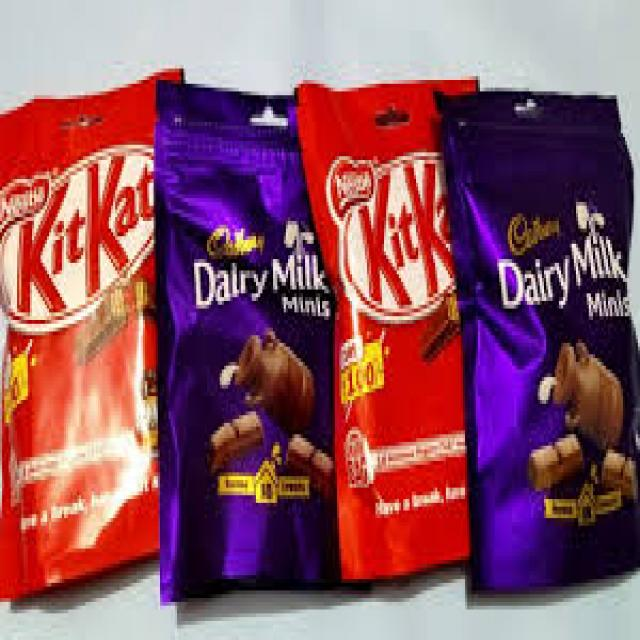kitkat: (296, 76, 499, 582), (5, 64, 184, 603)
